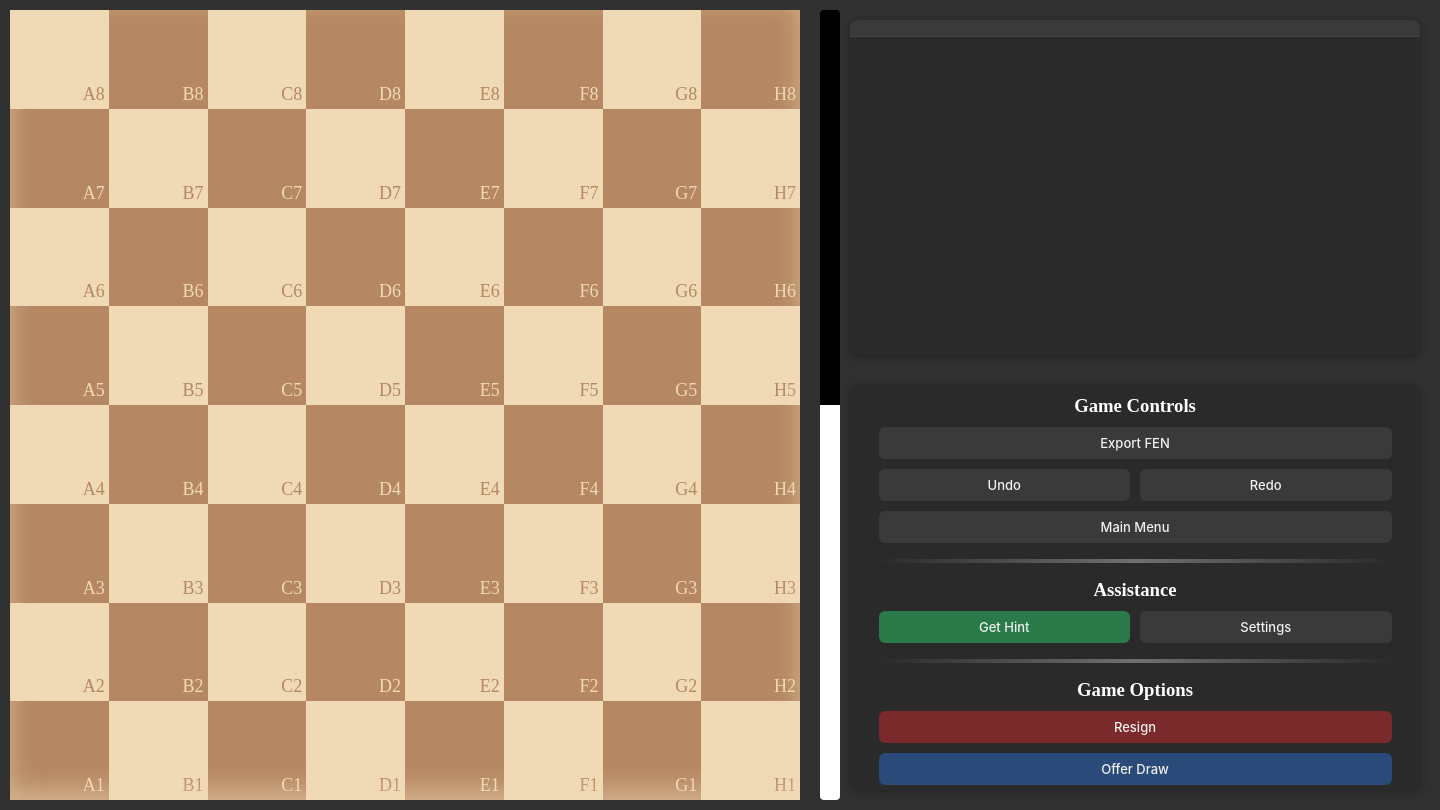
Test case: Navigation › result modal has Return to Menu button
Click the button "Offer Draw" at x=1135, y=769, box [878,753,1392,785]
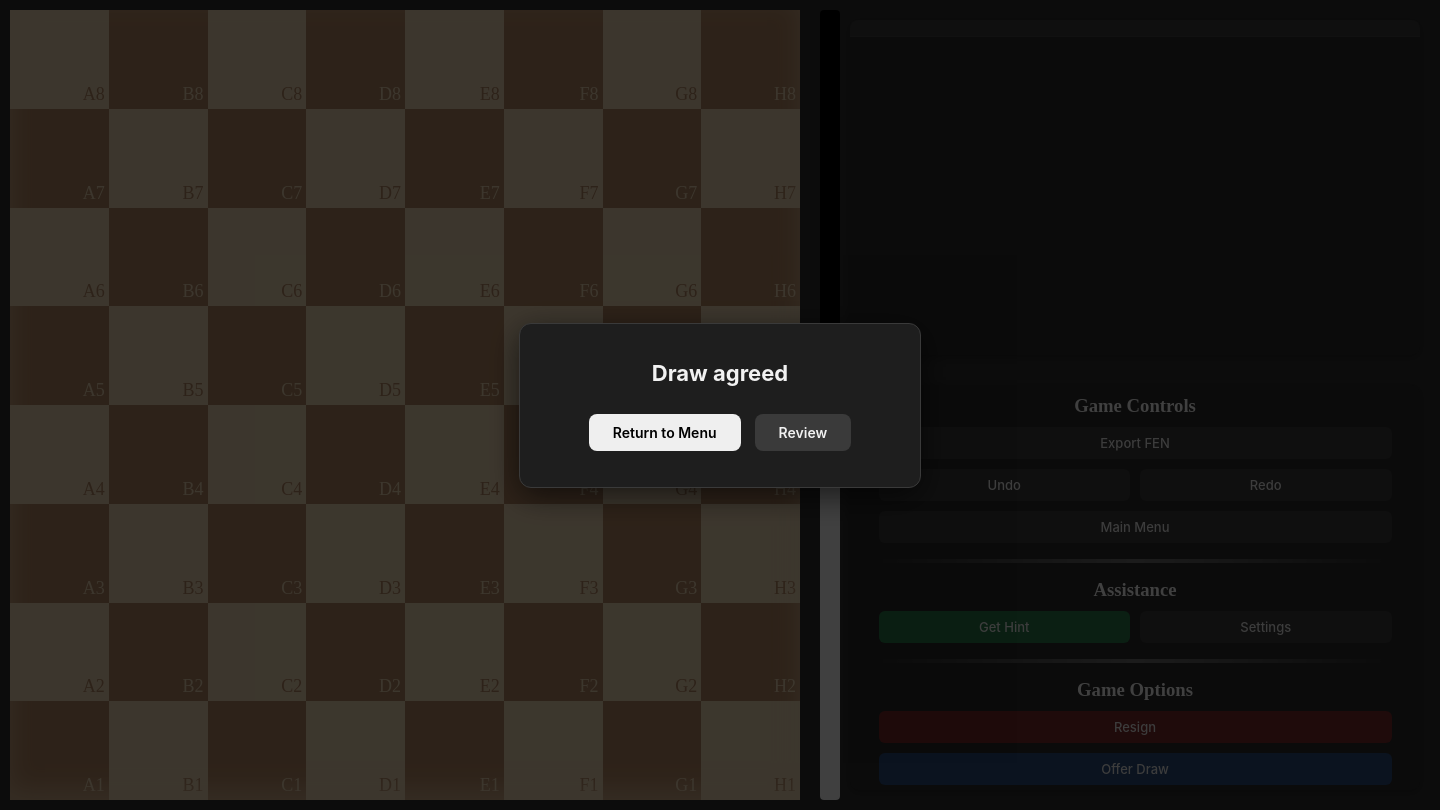
Now the button "Return to Menu" is shown, box [589,414,740,450]
